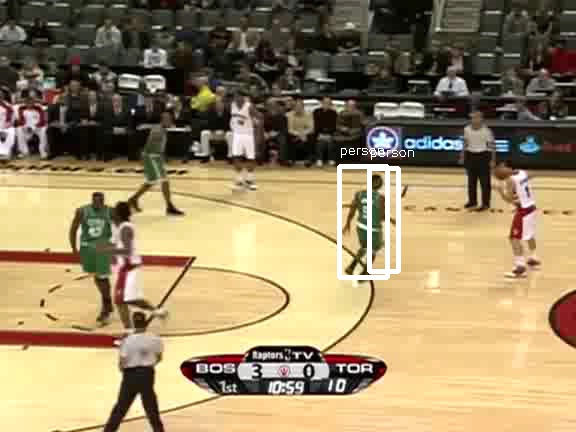person: (355, 184, 389, 265), (354, 184, 388, 265), (356, 184, 390, 265), (355, 183, 389, 264), (355, 185, 389, 266)
target_negative: (94, 68, 519, 305), (135, 42, 242, 315), (450, 62, 573, 258), (274, 295, 494, 386), (308, 135, 430, 209), (471, 300, 553, 331)
